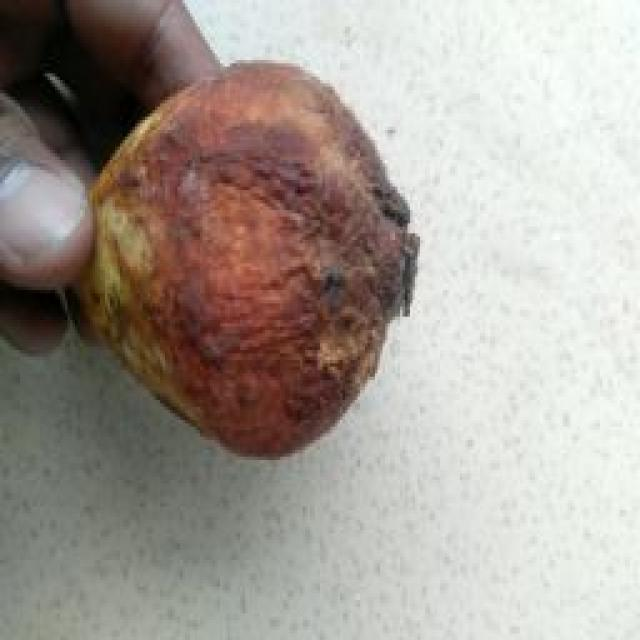Bad_Guava: (79, 63, 418, 454)
